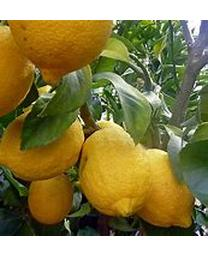lemon: (80, 130, 153, 220), (0, 109, 85, 182), (137, 148, 196, 228), (0, 26, 36, 115), (30, 171, 74, 222)
